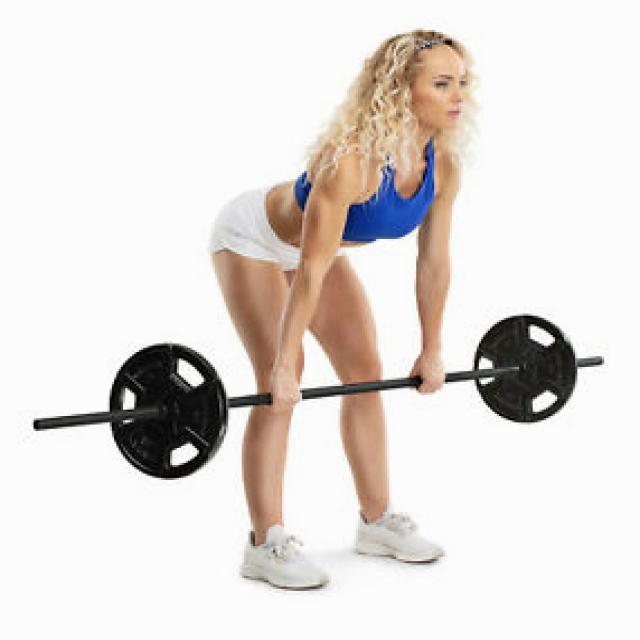barbell_plate_side: (145, 395, 177, 427), (507, 354, 539, 386), (18, 410, 50, 442), (583, 342, 615, 374)
